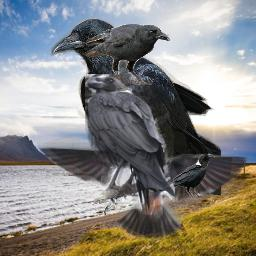Crow: (50, 17, 221, 215), (85, 74, 175, 215), (82, 24, 170, 85), (161, 152, 215, 199)
Swallow: (32, 135, 251, 241)
